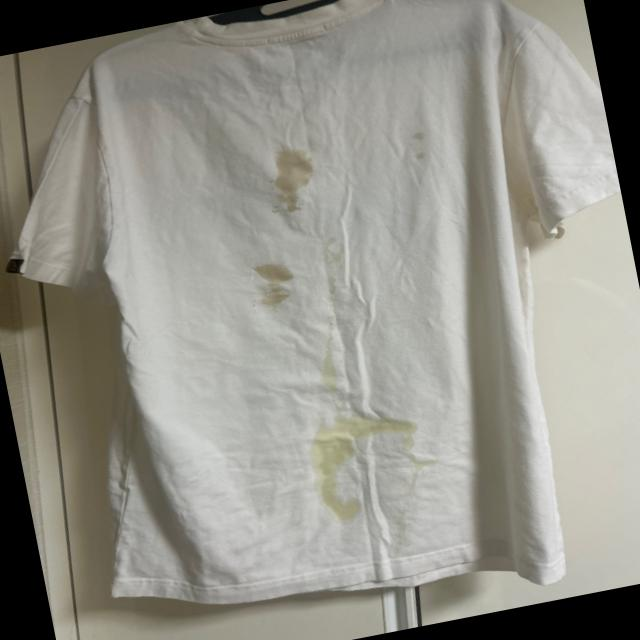stain: (303, 404, 433, 525), (261, 136, 330, 228), (312, 321, 352, 393), (258, 252, 302, 308), (314, 238, 350, 298), (401, 122, 444, 168)
